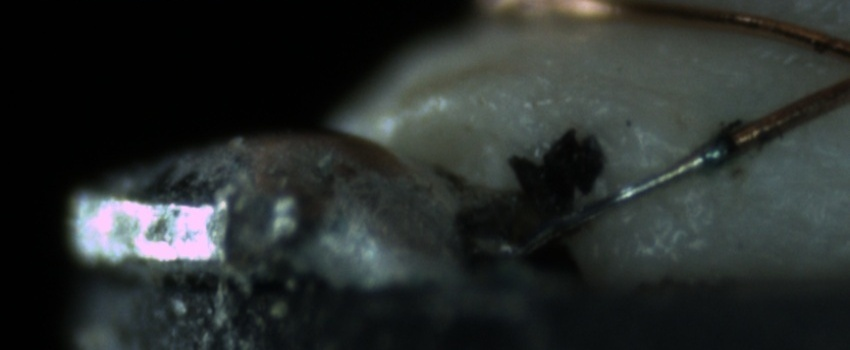TS: (514, 137, 737, 258)
TTCW: (497, 110, 782, 261)
